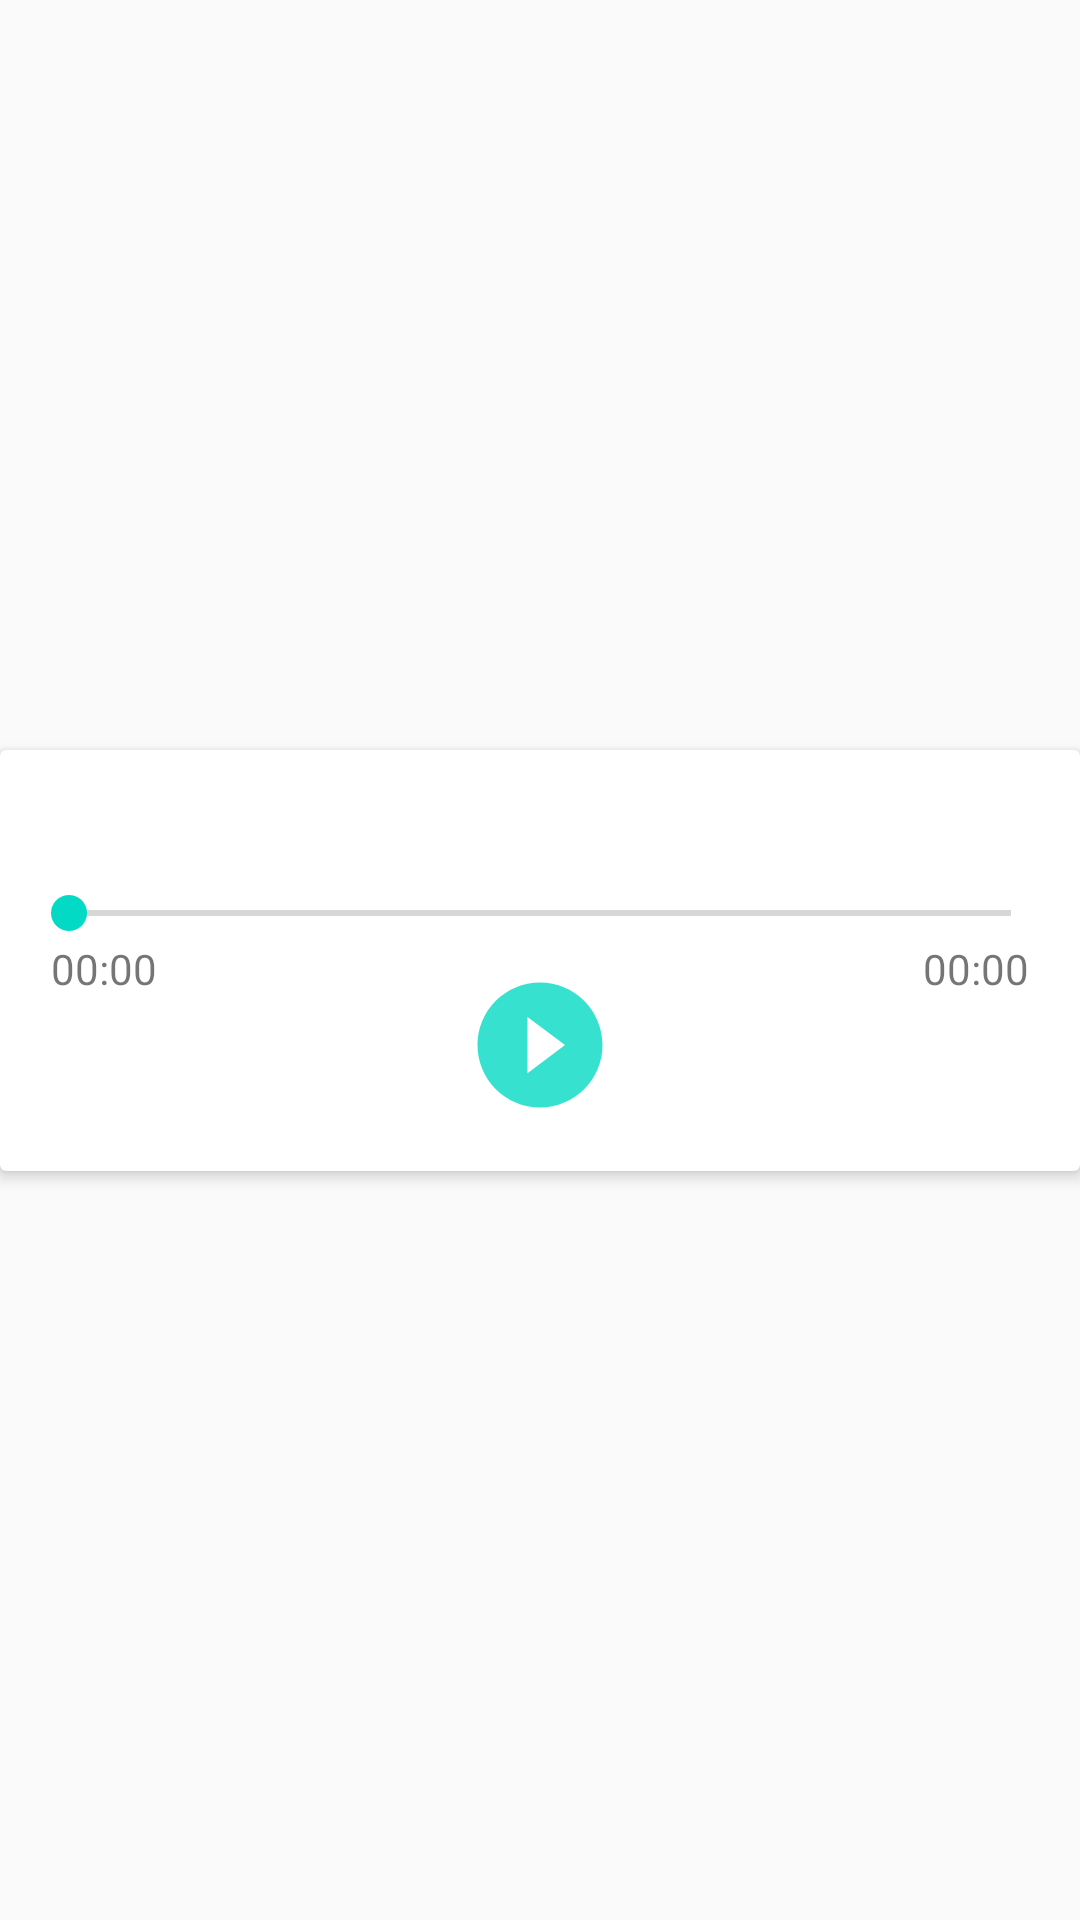

Named icons in this screenshot (1080px x 1920px) and their centers, (x=x, y=y):
circle play: (x=540, y=1045)
